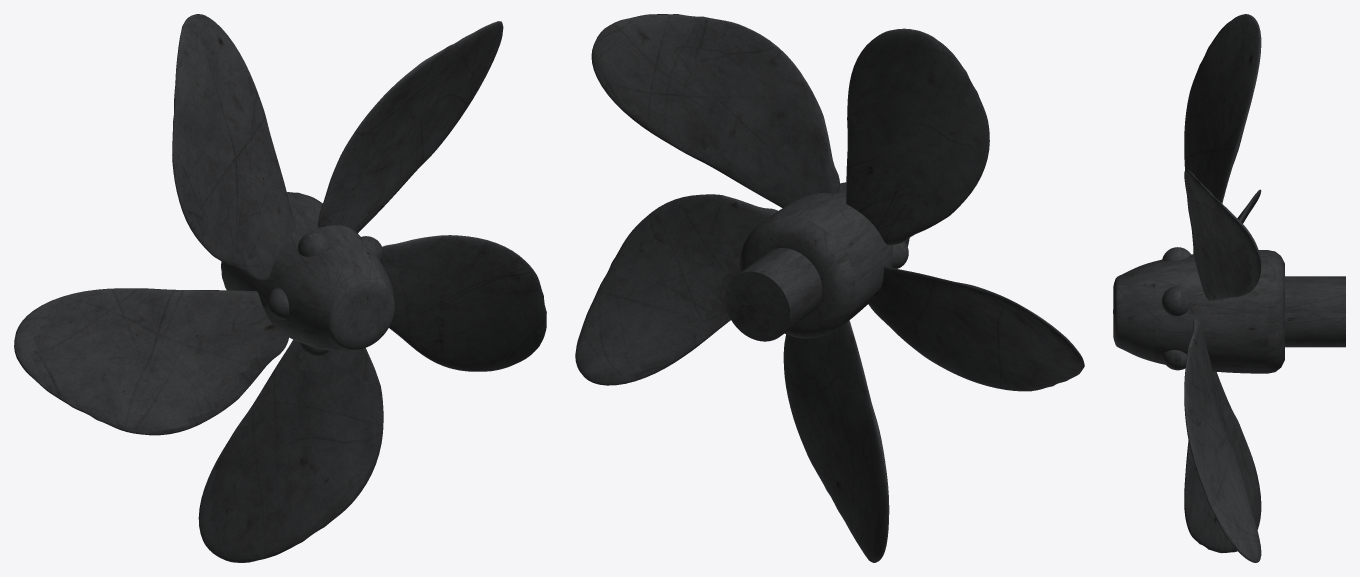
The model's file is propeller.glb.
3 views of the same model, side by side, from view 1: azimuth 30°, elevation 25°; view 2: azimuth 150°, elevation 25°; view 3: azimuth 270°, elevation 25° (orthographic). The views are drawn at different scales.
Visible parts, largest first — view 1: Plane.005_Material.001_0.004, Plane.004_Material.001_0.004, Plane.002_Material.001_0.006, Plane.003_Material.001_0.004, Plane.001_Material.001_0.004, Cylinder.001_Material.001_0.004; view 2: Plane.001_Material.001_0.004, Plane.002_Material.001_0.006, Plane.003_Material.001_0.004, Cylinder.001_Material.001_0.004, Plane.005_Material.001_0.004, Plane.004_Material.001_0.004; view 3: Cylinder.001_Material.001_0.004, Plane.002_Material.001_0.006, Plane.003_Material.001_0.004, Plane.001_Material.001_0.004, Plane.004_Material.001_0.004.
Part boxes in pixels (box(x1,y1,x2,y2)): Plane.005_Material.001_0.004: box(14, 288, 288, 435); Plane.004_Material.001_0.004: box(198, 339, 383, 562); Plane.002_Material.001_0.006: box(172, 14, 295, 280); Plane.003_Material.001_0.004: box(381, 235, 546, 371); Plane.001_Material.001_0.004: box(318, 21, 503, 233); Cylinder.001_Material.001_0.004: box(221, 192, 394, 356); Plane.001_Material.001_0.004: box(591, 14, 839, 207); Plane.002_Material.001_0.006: box(846, 28, 989, 244); Plane.003_Material.001_0.004: box(575, 194, 777, 385); Cylinder.001_Material.001_0.004: box(725, 182, 909, 341); Plane.005_Material.001_0.004: box(868, 266, 1084, 391); Plane.004_Material.001_0.004: box(783, 320, 889, 562); Cylinder.001_Material.001_0.004: box(1113, 247, 1345, 373); Plane.002_Material.001_0.006: box(1184, 14, 1261, 253); Plane.003_Material.001_0.004: box(1184, 317, 1261, 562); Plane.001_Material.001_0.004: box(1184, 170, 1261, 300); Plane.004_Material.001_0.004: box(1184, 371, 1261, 553).
Bounding box in the file's own units: 163 × 166 × 68.12.
1 material, 1 textured.
